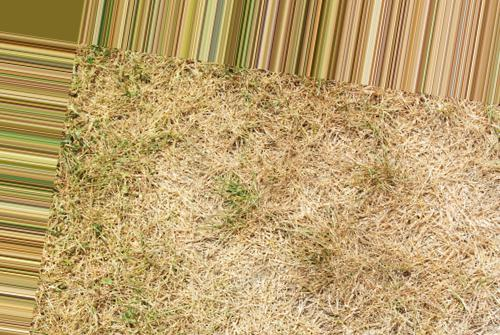patch: (98, 85, 352, 326), (363, 123, 497, 335)
